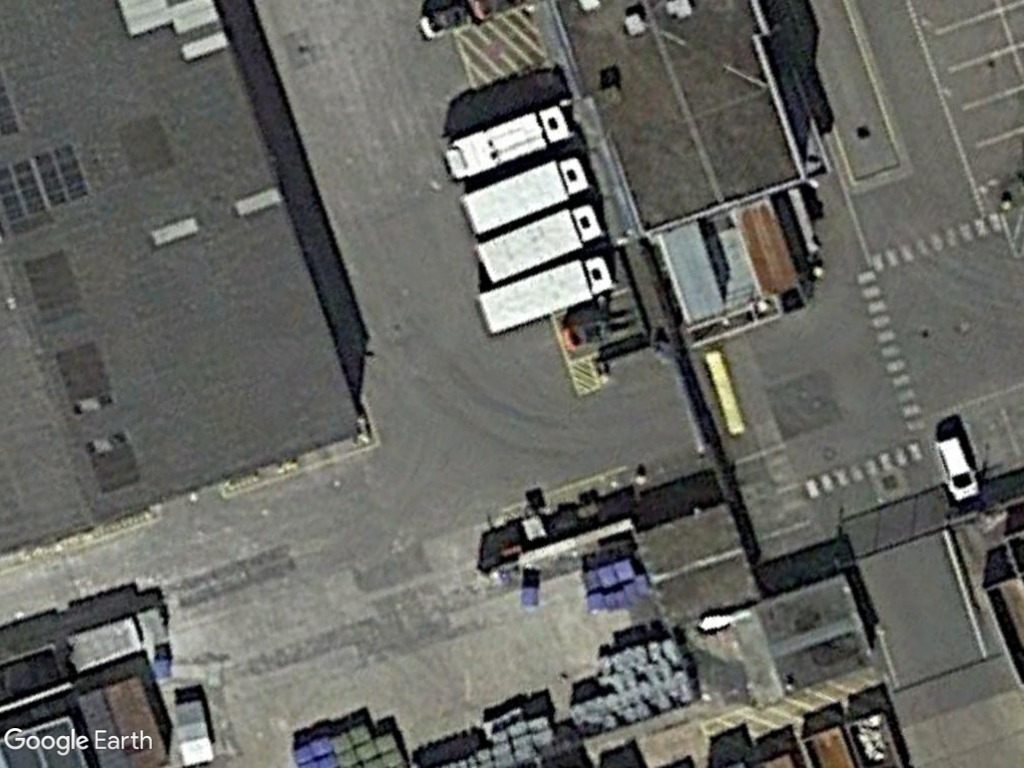car: (930, 432, 981, 505)
truck: (472, 250, 616, 337), (442, 98, 576, 186), (459, 151, 588, 239), (472, 202, 601, 287)
